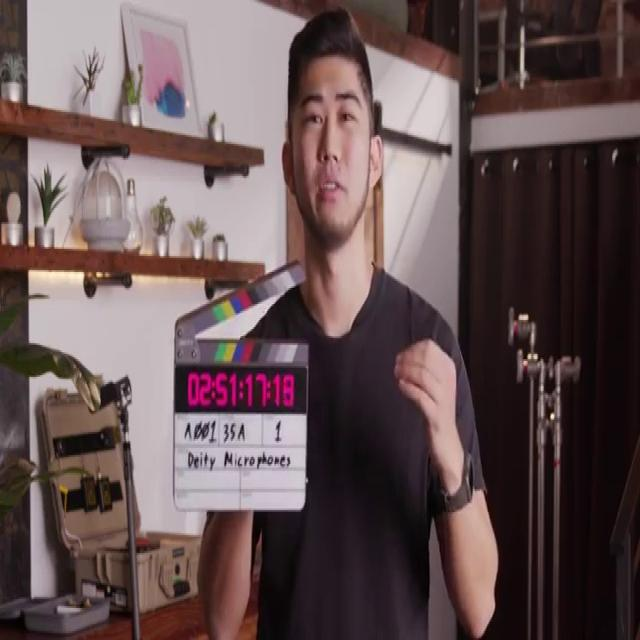Clapperboard: (173, 258, 309, 512)
